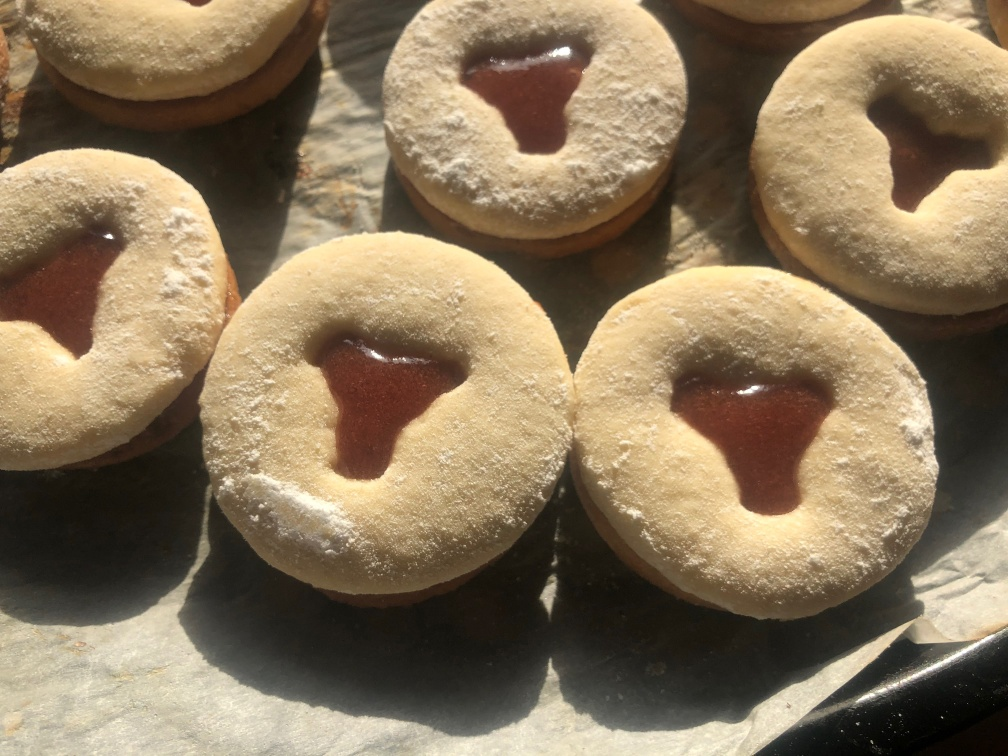christmas shortbread with jam: (199, 231, 575, 606), (574, 263, 937, 644), (2, 143, 239, 487), (754, 11, 1008, 313), (377, 3, 690, 244), (23, 1, 334, 121)
